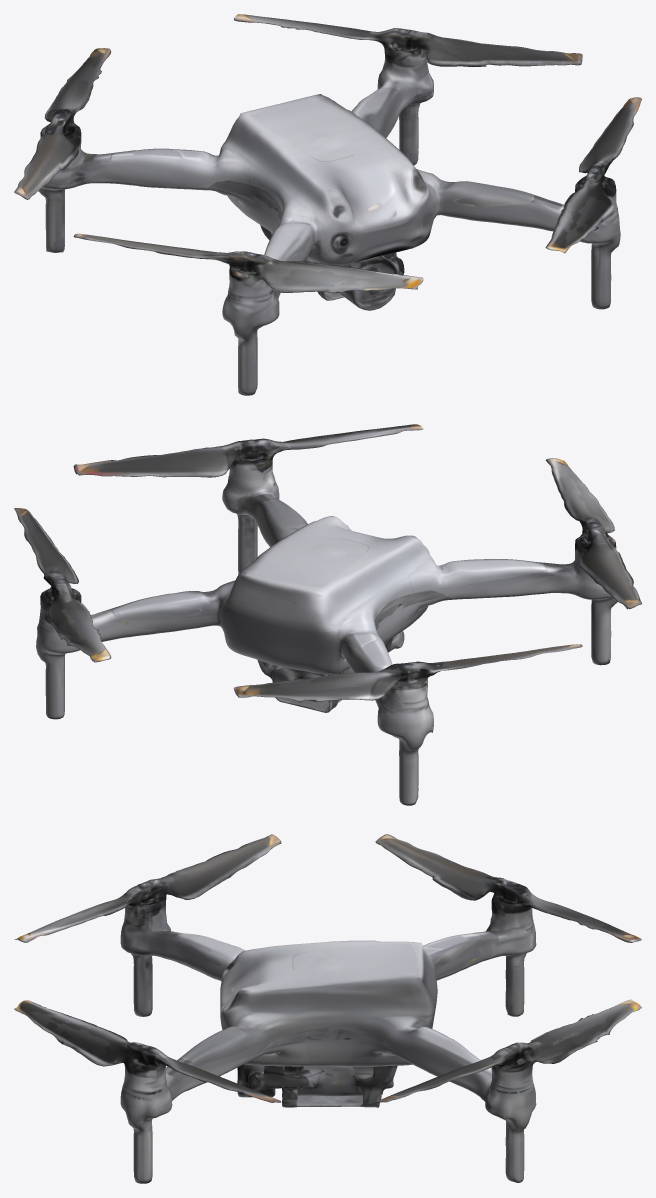
The model's file is drone.glb.
The picture shows the model from 3 angles, top to bottom: view 1: azimuth 30°, elevation 25°; view 2: azimuth 150°, elevation 25°; view 3: azimuth 270°, elevation 25°; orthographic projection. The views are drawn at different scales.
Bounding box in the file's own units: 2.01 × 0.4789 × 1.99.
Materials: 1 (1 with a texture image).
